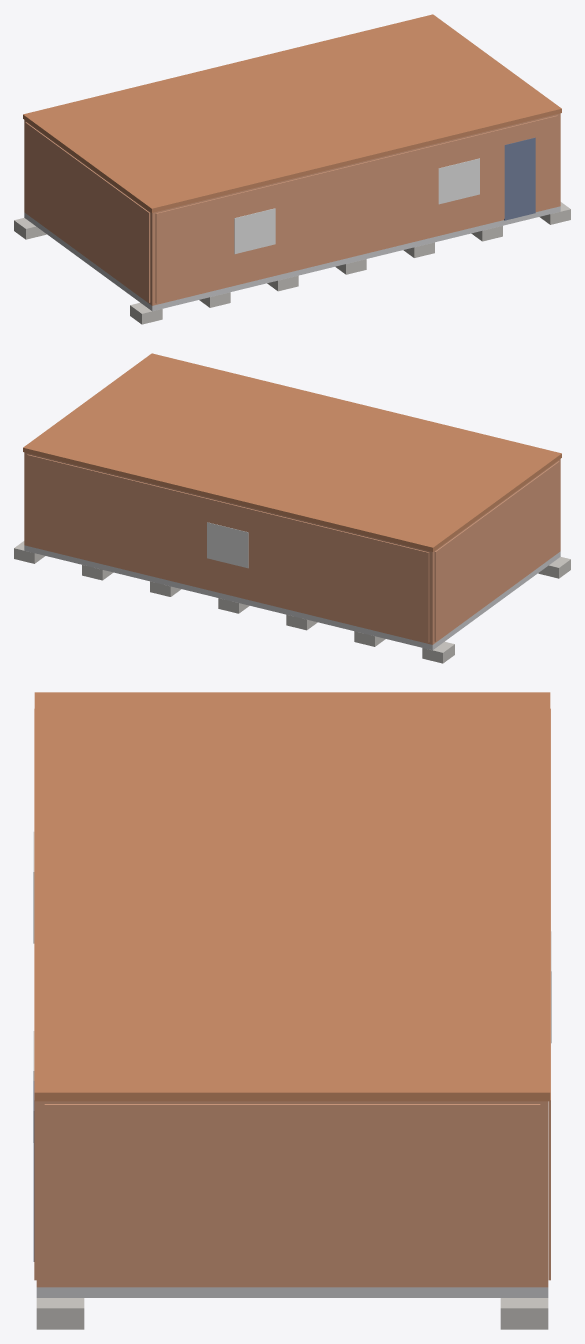
Rendered from Studio-40-Base-Terracotta-LOD1.glb.
The picture shows the model from 3 angles, top to bottom: view 1: azimuth 30°, elevation 25°; view 2: azimuth 150°, elevation 25°; view 3: azimuth 270°, elevation 25°; orthographic projection. The views are drawn at different scales.
Visible parts, largest first — view 1: RoofMain, ExteriorPanelsStandard, BaseFrame, WindowsStandard, ExteriorShell, FoundationBlocks, EntryDoor; view 2: RoofMain, ExteriorPanelsStandard, BaseFrame, ExteriorShell, FoundationBlocks, WindowsStandard; view 3: RoofMain, ExteriorPanelsStandard, ExteriorShell, BaseFrame, FoundationBlocks.
Boxes of the visible parts, x1,y1,x2,y2 form: RoofMain: (23,14,561,212); ExteriorPanelsStandard: (25,115,557,303); BaseFrame: (24,206,560,311); WindowsStandard: (234,158,479,254); ExteriorShell: (24,113,560,305); FoundationBlocks: (14,202,570,324); EntryDoor: (504,137,535,220); RoofMain: (23,353,561,551); ExteriorPanelsStandard: (27,454,559,642); BaseFrame: (24,545,560,650); ExteriorShell: (24,452,560,644); FoundationBlocks: (14,541,570,663); WindowsStandard: (207,522,248,568); RoofMain: (34,692,550,1101); ExteriorPanelsStandard: (34,708,550,1284); ExteriorShell: (36,1101,548,1287); BaseFrame: (36,1287,548,1297); FoundationBlocks: (36,1298,548,1329).
Bounding box in the file's own units: 12.49 × 3.17 × 6.53.
